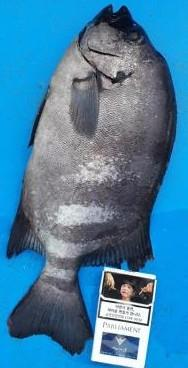fish: (6, 5, 177, 356)
